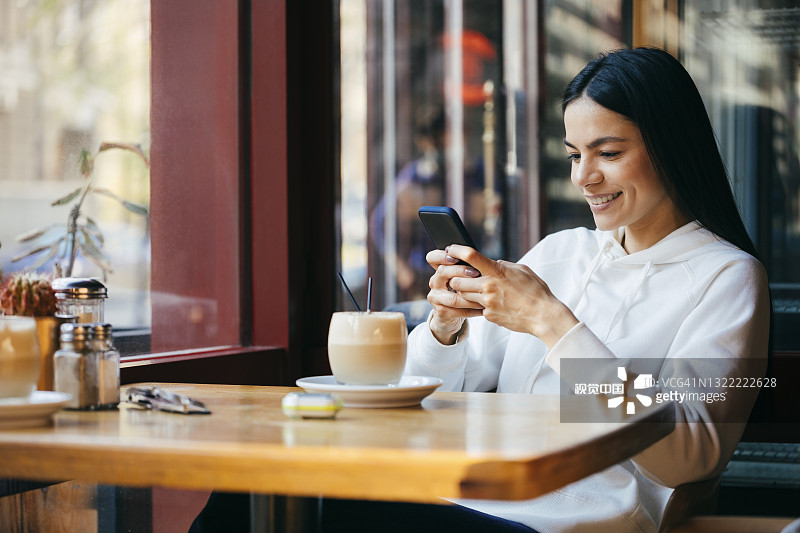reading: (399, 200, 578, 343)
